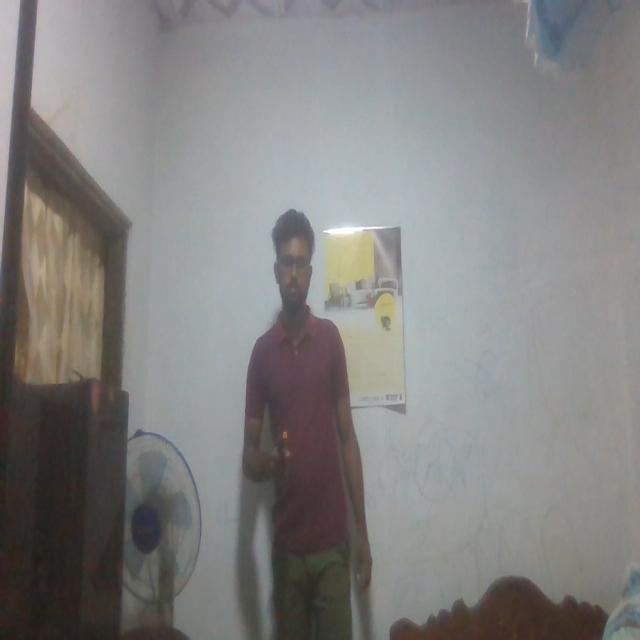Gun_Holder: (270, 428, 294, 478)
Person: (246, 190, 372, 640)
